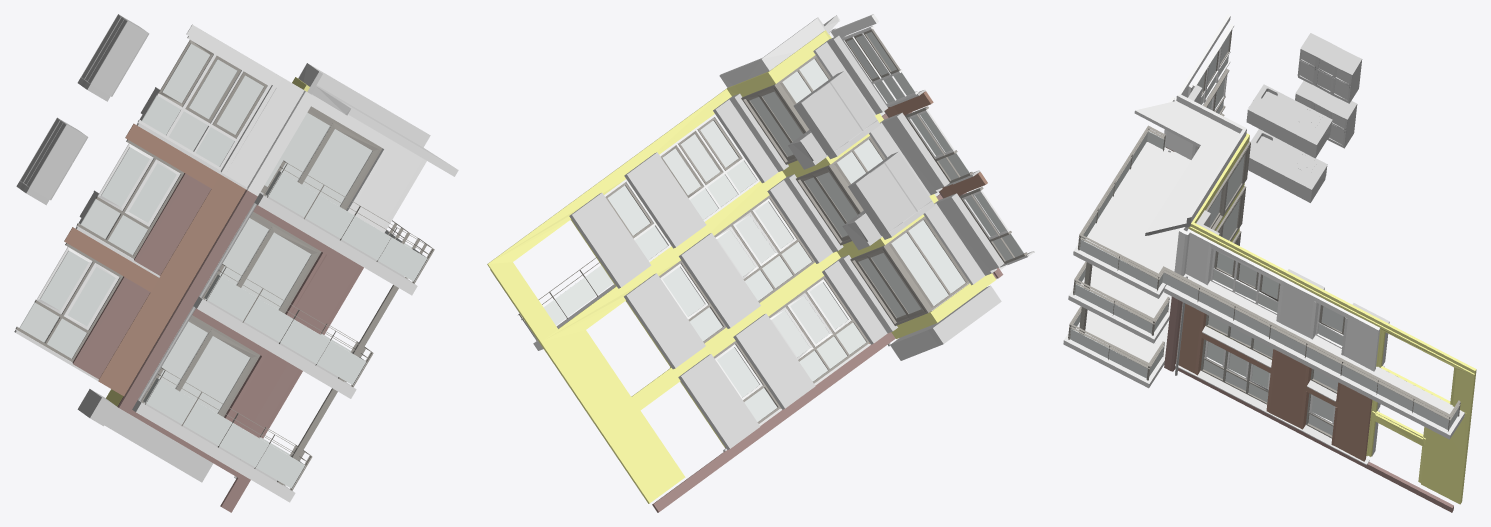
The picture shows the model from 3 angles, left to right: view 1: azimuth 30°, elevation 25°; view 2: azimuth 150°, elevation 25°; view 3: azimuth 270°, elevation 25°; orthographic projection. The views are drawn at different scales.
Visible parts, largest first — view 1: mesh; view 2: mesh; view 3: mesh.
Boxes of the visible parts, x1,y1,x2,y2 form: mesh: (14, 14, 458, 512); mesh: (487, 14, 1034, 512); mesh: (1063, 14, 1476, 512).
Bounding box in the file's own units: 14.77 × 15.01 × 12.57.
